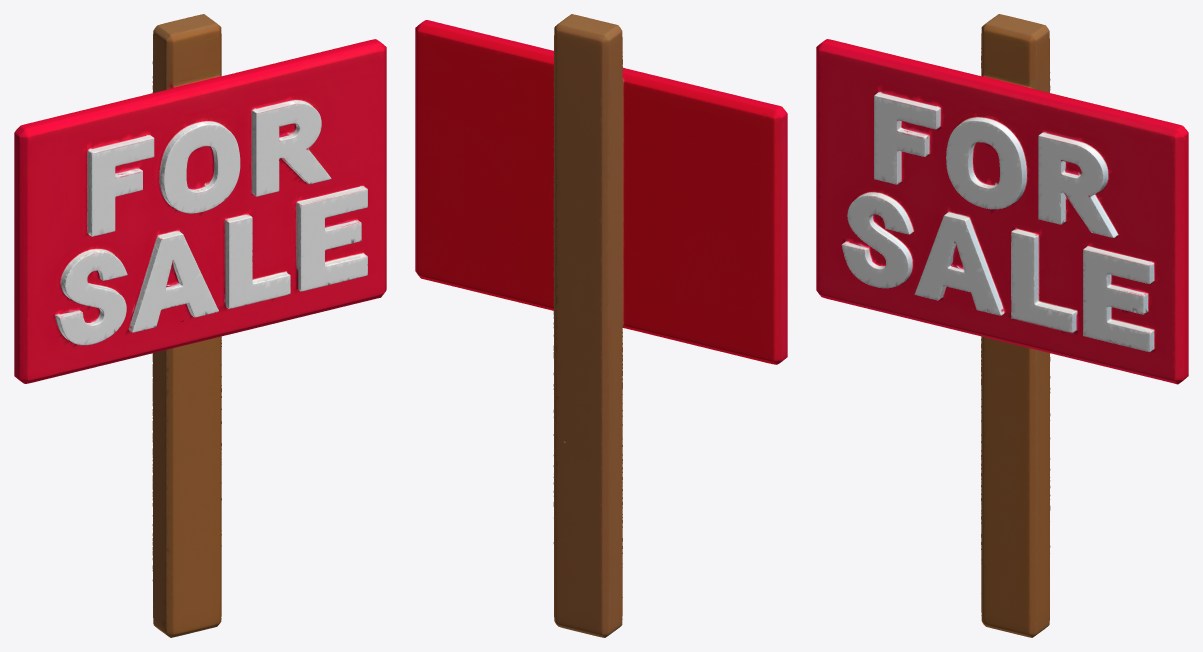
The model's file is ForSaleSign_Asset.glb.
3 views of the same model, side by side, from view 1: azimuth 30°, elevation 25°; view 2: azimuth 150°, elevation 25°; view 3: azimuth 330°, elevation 25° (orthographic).
Parts seen in each view (by area): view 1: Mesh_0; view 2: Mesh_0; view 3: Mesh_0.
Part boxes in pixels (x1=…): Mesh_0: x1=14, y1=14, x2=386, y2=637; Mesh_0: x1=415, y1=14, x2=787, y2=637; Mesh_0: x1=816, y1=14, x2=1188, y2=637.
Size of the model in its own units: 1.21 by 1.9 by 0.1868.
Materials: 1 (1 with a texture image).
